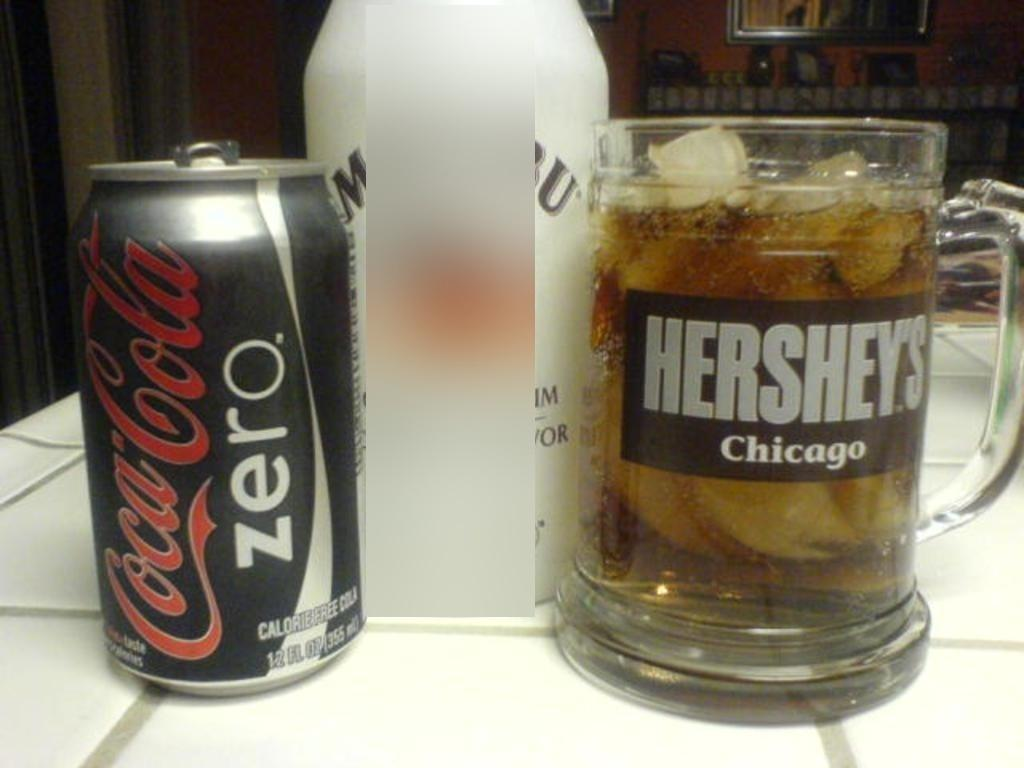glass-mug: (559, 111, 1023, 725)
tin can: (65, 136, 367, 710)
